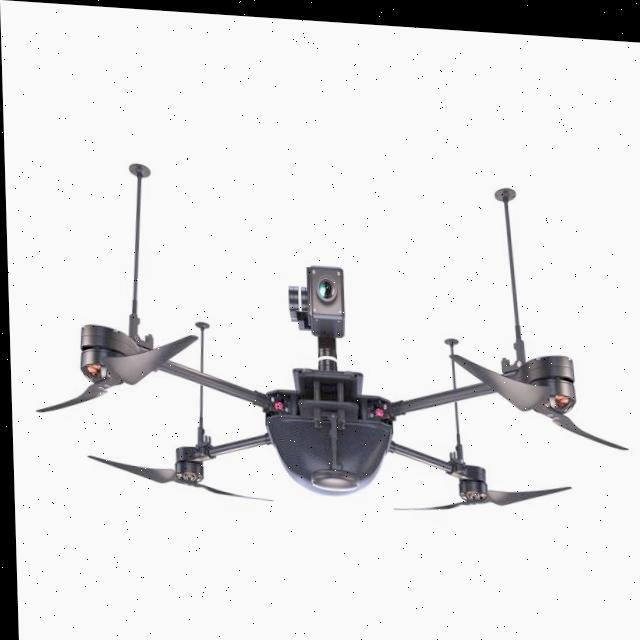drone: (13, 137, 638, 537)
